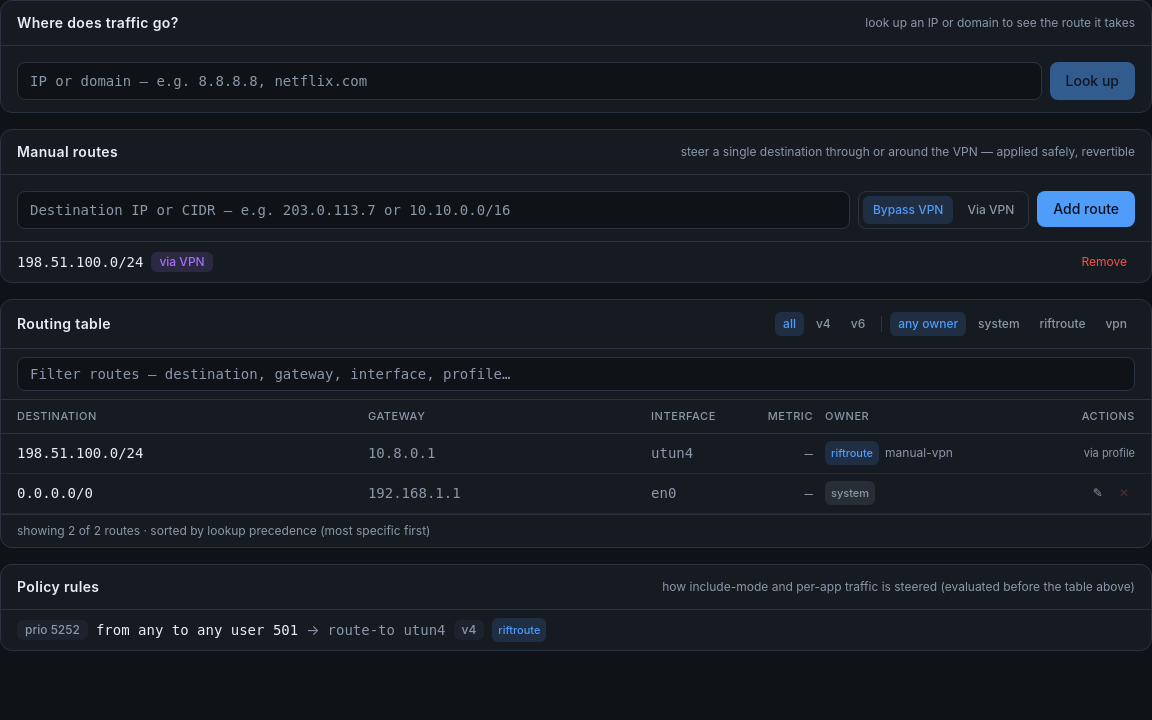
Test: RoutesView › filters routes from the search box
The image size is (1152, 720).
Check: the text "showing 2 of 2 routes" is shown, box [1,514,1151,546]
Type "en0" into the field labelled "Filter routes" at point(576, 374), box [17,357,1135,391]
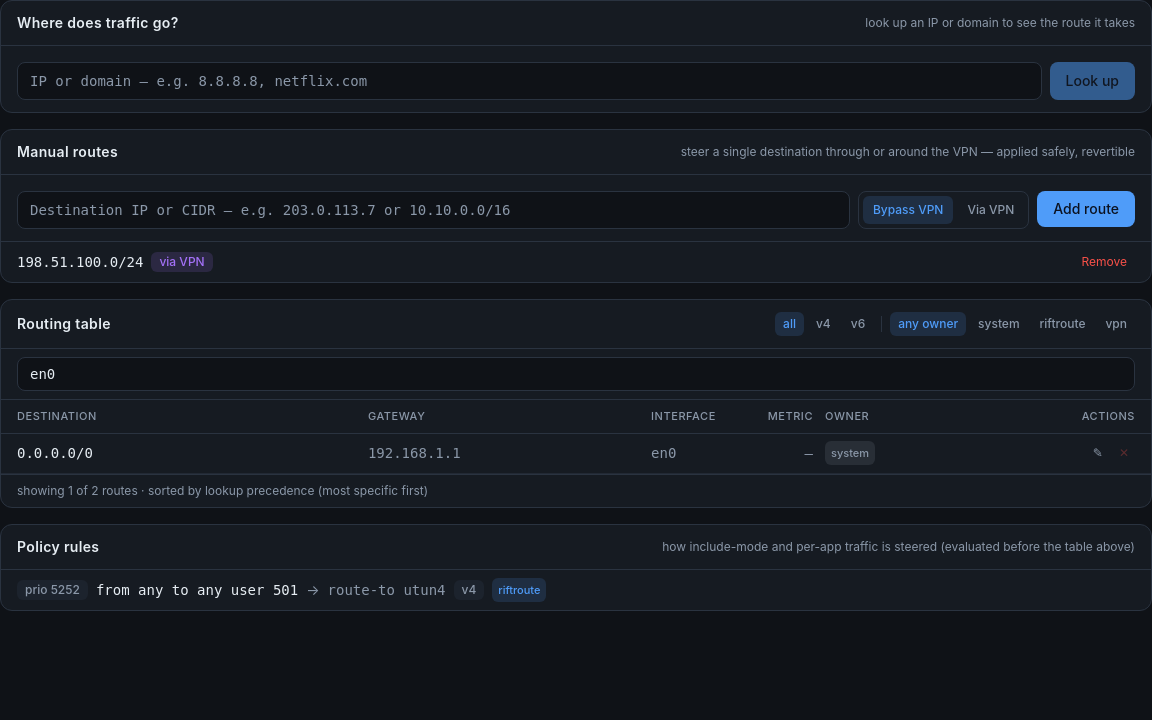
Check: the text "showing 1 of 2 routes" is shown, box [1,474,1151,506]
